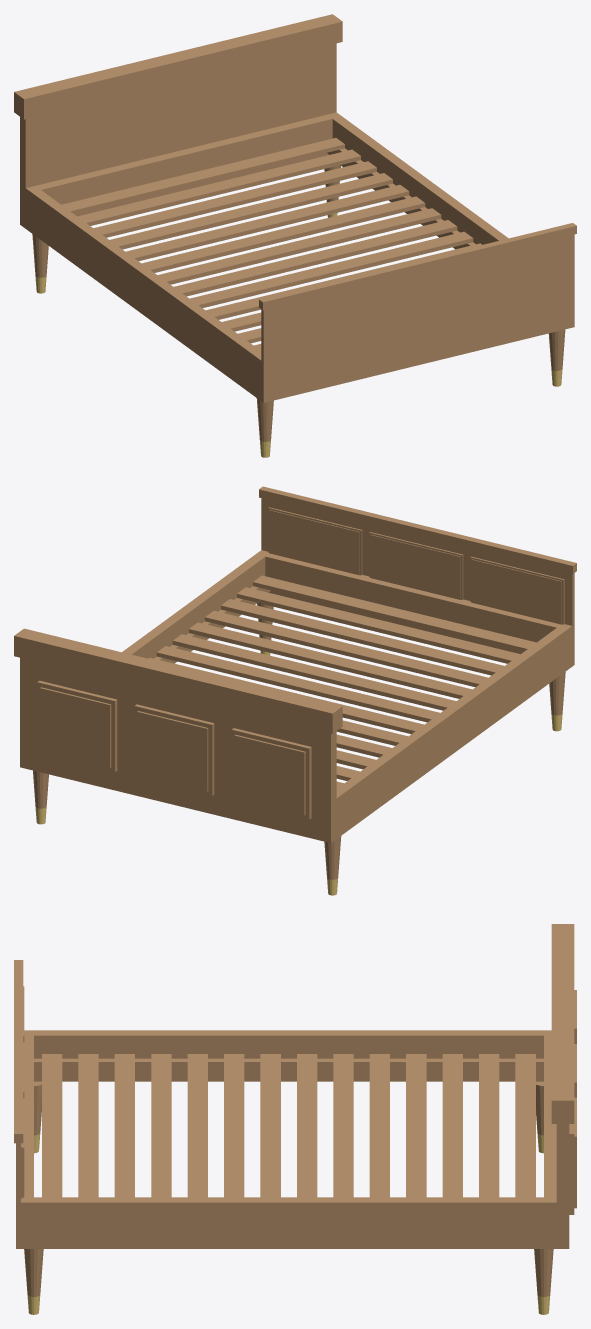
The picture shows the model from 3 angles, top to bottom: view 1: azimuth 30°, elevation 25°; view 2: azimuth 150°, elevation 25°; view 3: azimuth 270°, elevation 25°; orthographic projection. The views are drawn at different scales.
Parts seen in each view (by area): view 1: headboard, footboard, bed_frame_base, slat.008, slat.009, slat.007, slat.005, slat.006, slat.011, slat.012, slat.010, slat.013 (+4 smaller); view 2: footboard, bed_frame_base, headboard, slat.005, slat.006, slat, slat.001, slat.003, slat.004, slat.002, slat.007, slat.008 (+4 smaller); view 3: bed_frame_base, footboard, slat.001, slat.003, slat.006, slat.008, slat.010, slat.013, slat, slat.002, slat.004, slat.005 (+9 smaller).
Boxes of the visible parts, x1,y1,x2,y2 form: headboard: (259, 223, 576, 402); footboard: (14, 14, 342, 228); bed_frame_base: (25, 112, 508, 400); slat.008: (141, 196, 425, 272); slat.009: (126, 184, 409, 261); slat.007: (157, 208, 441, 284); slat.005: (190, 231, 473, 307); slat.006: (174, 220, 457, 296); slat.011: (93, 161, 376, 237); slat.012: (77, 149, 360, 225); slat.010: (110, 173, 392, 249); slat.013: (61, 138, 344, 214); footboard: (14, 628, 342, 842); bed_frame_base: (122, 550, 572, 838); headboard: (259, 486, 576, 666); slat.005: (172, 634, 456, 710); slat.006: (156, 646, 439, 722); slat: (253, 575, 536, 651); slat.001: (237, 587, 520, 663); slat.003: (205, 610, 488, 687); slat.004: (189, 622, 472, 698); slat.002: (221, 599, 503, 675); slat.007: (148, 657, 423, 734); slat.008: (336, 720, 407, 745); bed_frame_base: (21, 1030, 556, 1248); footboard: (551, 924, 576, 1248); slat.001: (78, 1054, 98, 1197); slat.003: (151, 1054, 171, 1197); slat.006: (260, 1054, 280, 1197); slat.008: (333, 1054, 353, 1197); slat.010: (406, 1054, 426, 1197); slat.013: (515, 1054, 535, 1197); slat: (42, 1054, 62, 1197); slat.002: (114, 1054, 134, 1197); slat.004: (187, 1054, 207, 1197); slat.005: (224, 1054, 244, 1197).
Size of the model in its own units: 1.64 by 0.95 by 2.21.
